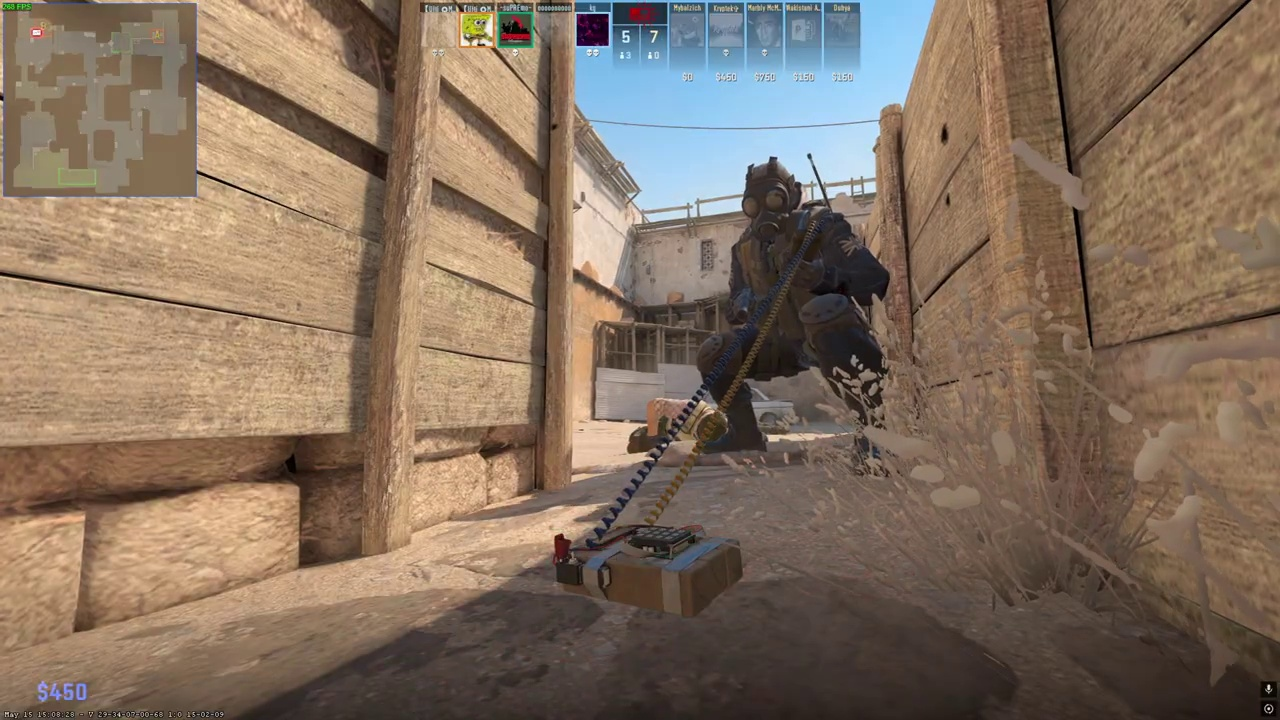CT: (695, 156, 890, 477)
